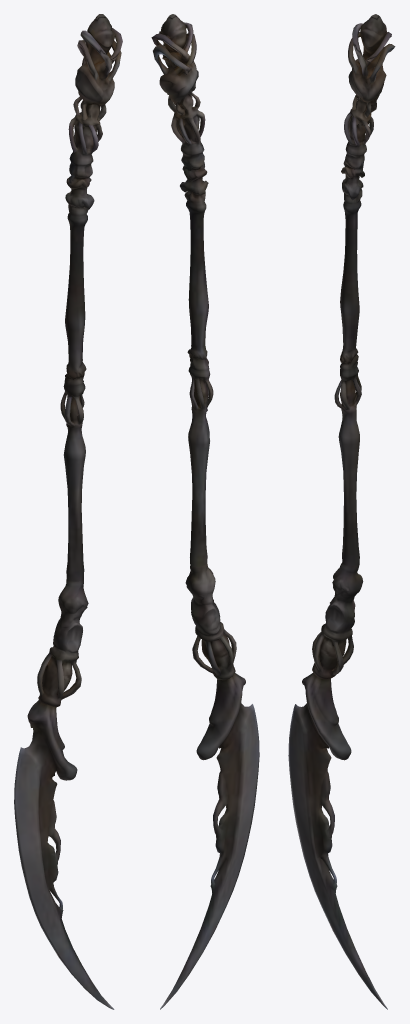
Rendered from weapon-wp_a_1023.glb.
3 renders of one model, left to right at view 1: azimuth 30°, elevation 25°; view 2: azimuth 210°, elevation 25°; view 3: azimuth 330°, elevation 25°, orthographic.
Visible parts, largest first — view 1: wp_a_1023_mesh; view 2: wp_a_1023_mesh; view 3: wp_a_1023_mesh.
Boxes of the visible parts, x1=… form: wp_a_1023_mesh: x1=14, y1=14, x2=122, y2=1009; wp_a_1023_mesh: x1=151, y1=14, x2=259, y2=1009; wp_a_1023_mesh: x1=288, y1=14, x2=395, y2=1009.
Size of the model in its own units: 0.2625 by 2.43 by 0.1053.
1 material, 1 textured.
